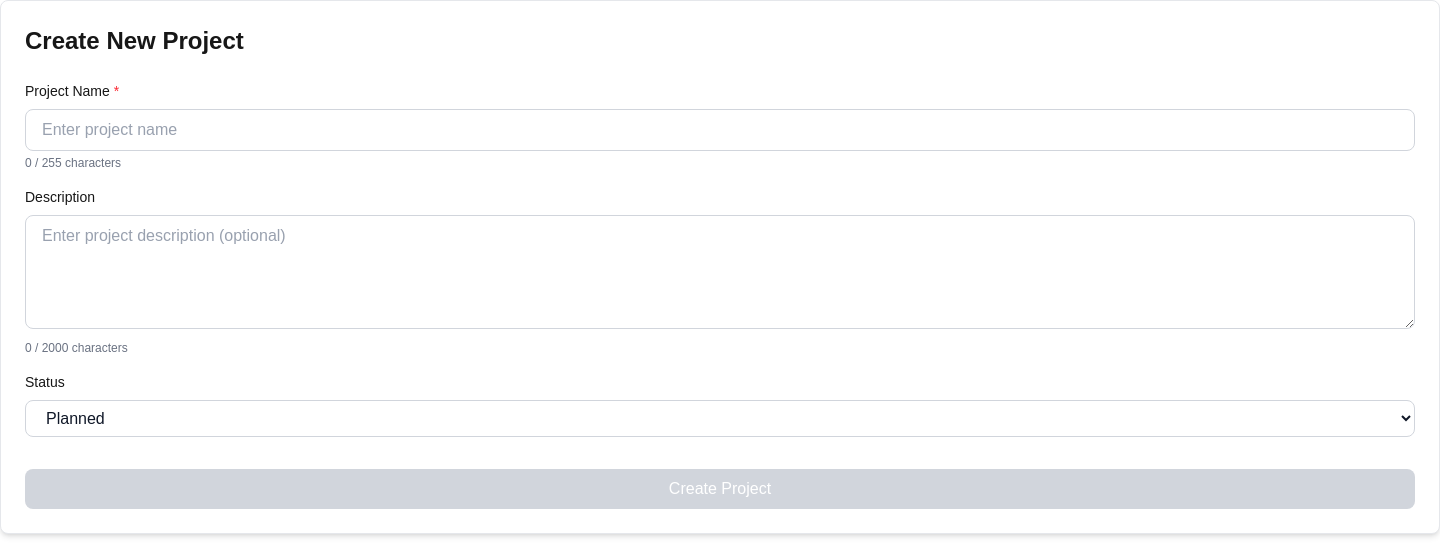
Test: ProjectForm › Form Validation › should update character counter as user types
In the text box labelled "Description": coordinates (720, 272) [25, 215, 1415, 329], type "Hello World"
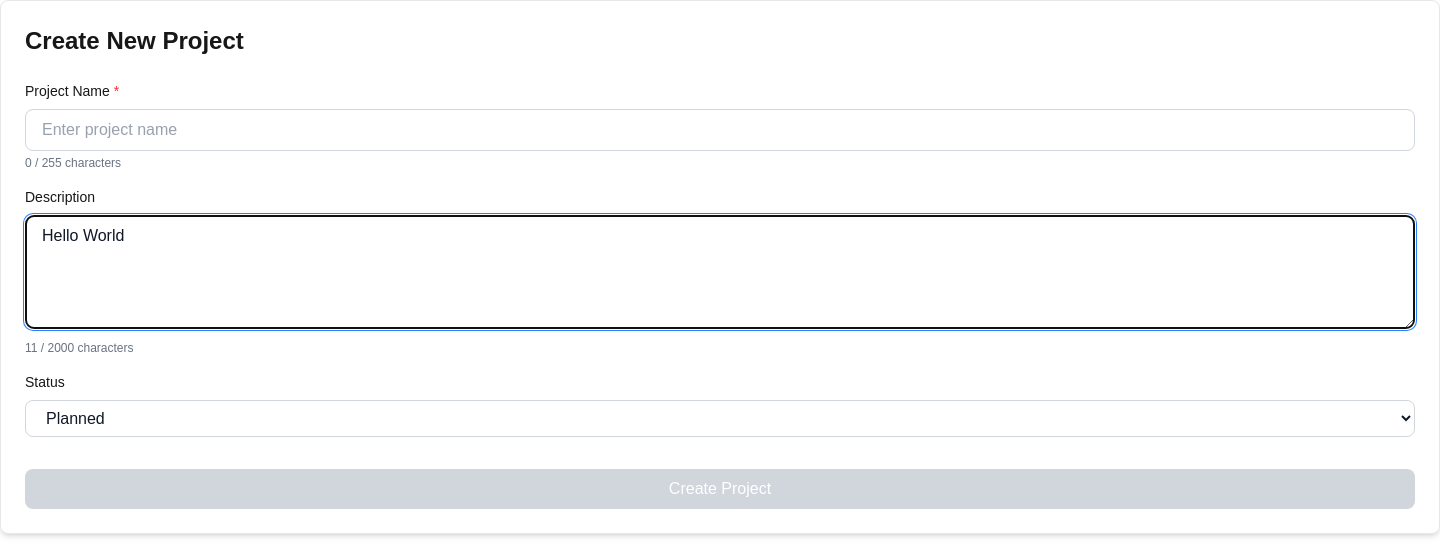
Now the text "11 / 2000 characters" is shown, box [25, 341, 134, 355]
